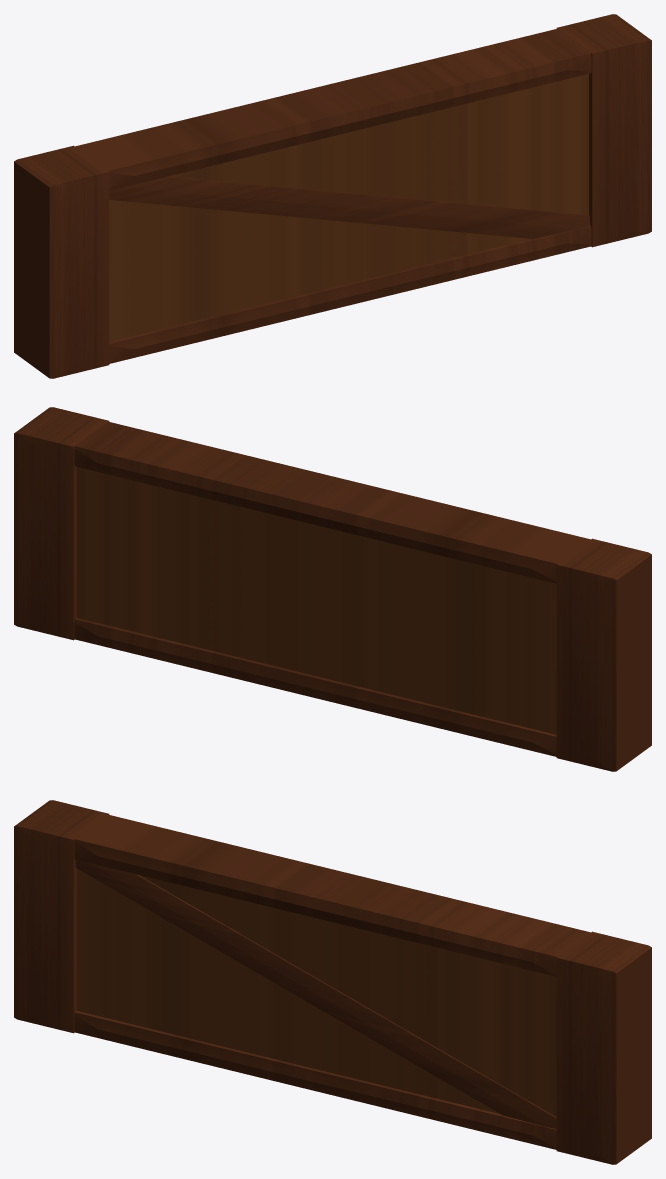
Rendered from Half_Half_Wall_L_Slash_Wood.fbx.
3 views of the same model, one above another, from view 1: azimuth 30°, elevation 25°; view 2: azimuth 150°, elevation 25°; view 3: azimuth 330°, elevation 25° (orthographic).
Visible parts, largest first — view 1: Half_Half_Wall_L_Slash_Wood; view 2: Half_Half_Wall_L_Slash_Wood; view 3: Half_Half_Wall_L_Slash_Wood.
Part boxes in pixels (left/top/right/bottom): Half_Half_Wall_L_Slash_Wood: left=14, top=14, right=651, bottom=378; Half_Half_Wall_L_Slash_Wood: left=14, top=407, right=651, bottom=771; Half_Half_Wall_L_Slash_Wood: left=14, top=800, right=651, bottom=1164.
Size of the model in its own units: 212 by 64.99 by 23.4.
